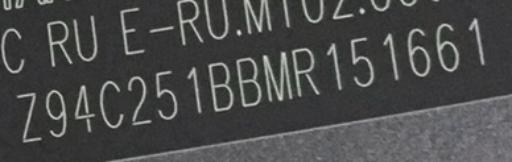letter: (261, 48, 295, 102), (289, 45, 321, 99), (234, 54, 264, 108), (206, 59, 236, 113), (434, 20, 462, 75), (14, 89, 42, 144), (152, 68, 180, 122), (404, 26, 432, 77), (126, 73, 152, 127), (96, 78, 124, 128), (349, 35, 375, 88), (44, 87, 68, 142), (70, 83, 96, 132), (466, 15, 488, 70), (380, 32, 402, 83), (326, 40, 344, 89), (186, 65, 202, 117)
